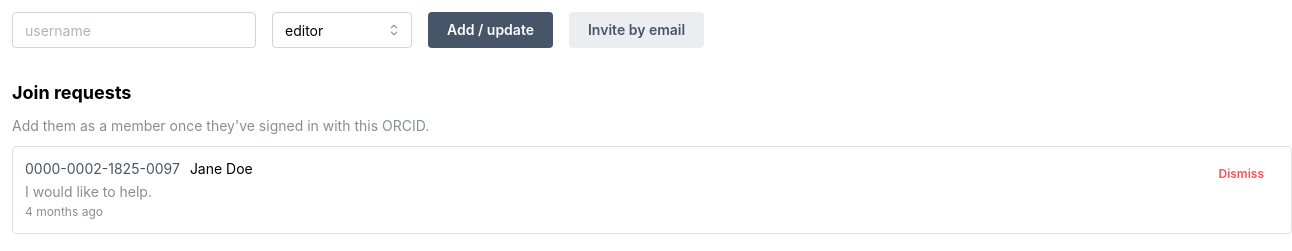
owner sees pending join requests and can dismiss one
This screenshot has width=1292, height=251.
Expected: the link "0000-0002-1825-0097" is shown, [25,159,180,180]
Expected: the text "Jane Doe" is shown, [190,159,253,180]
Click the button "Dismiss" at {"x": 1241, "y": 174}, box [1204,159,1279,189]
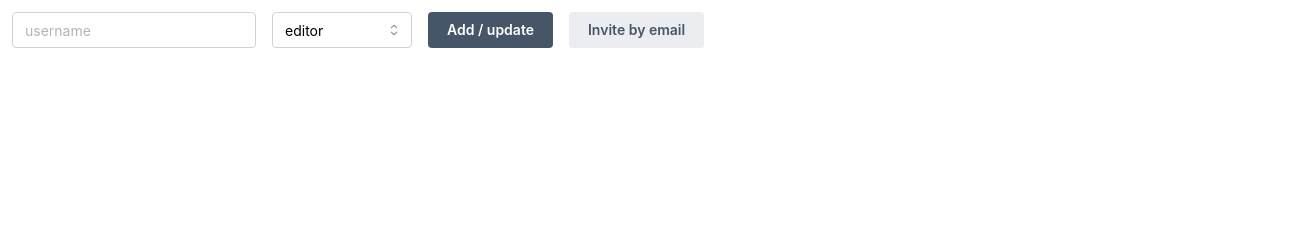
Now the link "0000-0002-1825-0097" is gone
